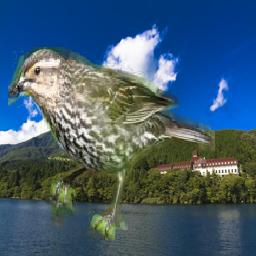Sparrow: (9, 48, 216, 241)
